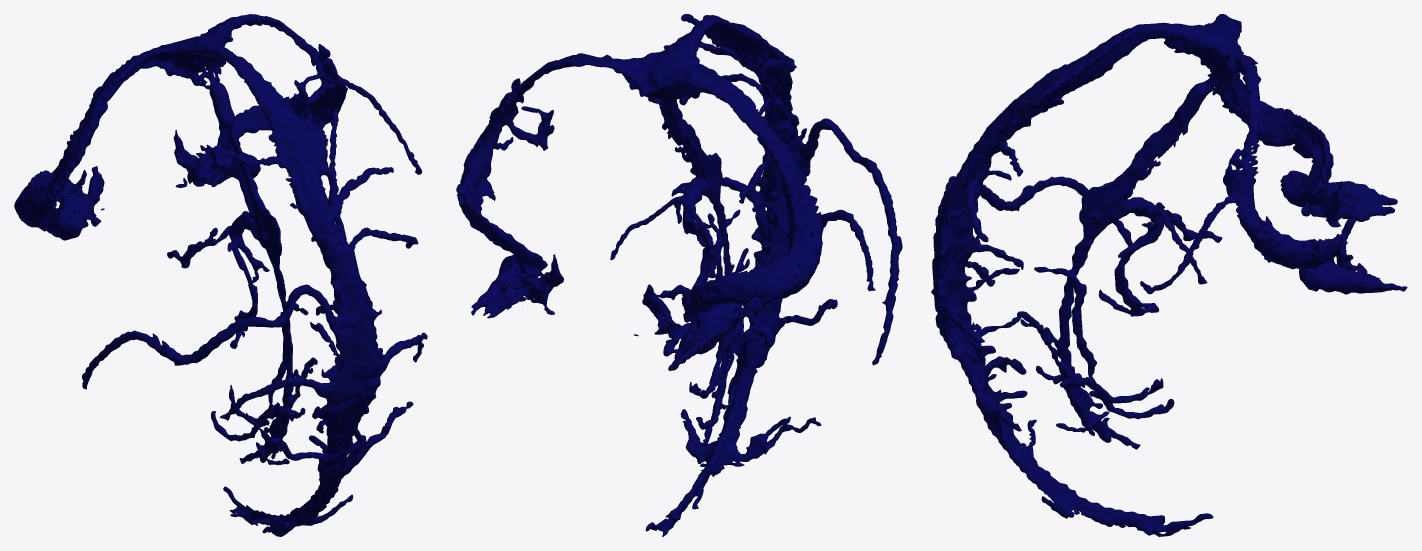
The model's file is Venous_sinus.obj.
3 renders of one model, left to right at view 1: azimuth 30°, elevation 25°; view 2: azimuth 150°, elevation 25°; view 3: azimuth 270°, elevation 25°, orthographic. The views are drawn at different scales.
Visible parts, largest first — view 1: grp1; view 2: grp1; view 3: grp1.
Part boxes in pixels (box(x1,y1,x2,y2)): grp1: box(14, 14, 427, 536); grp1: box(456, 14, 902, 536); grp1: box(931, 14, 1407, 536).
Bounding box in the file's own units: 129 × 169 × 146.
